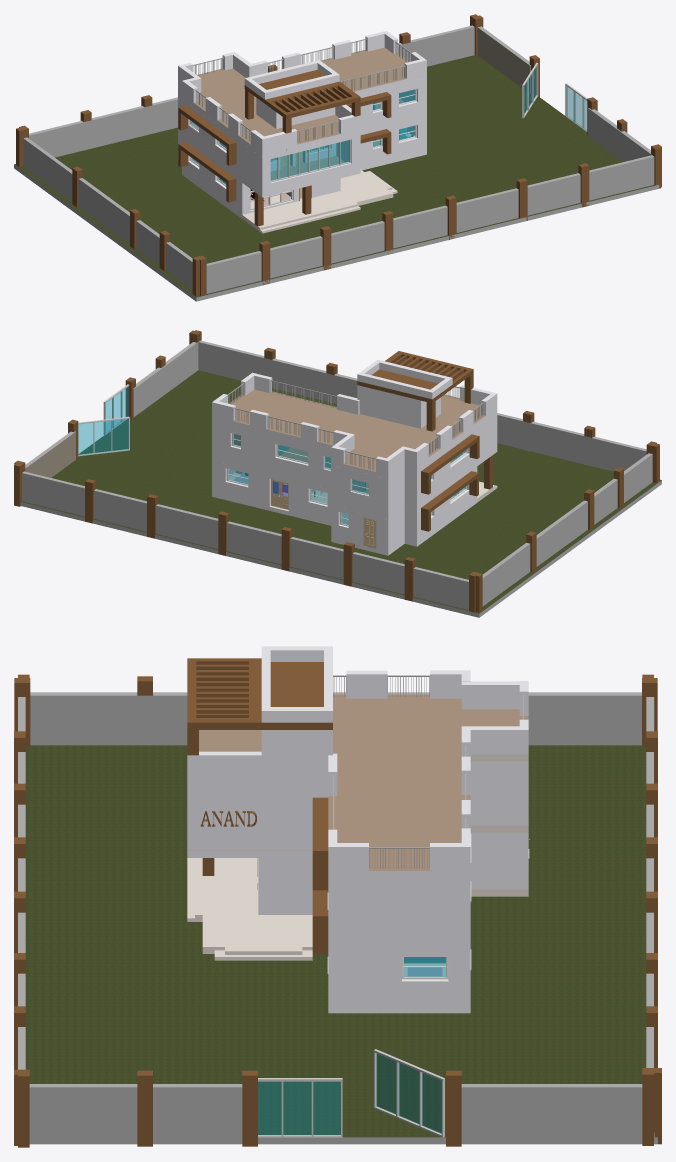
3 views of the same model, one above another, from view 1: azimuth 30°, elevation 25°; view 2: azimuth 150°, elevation 25°; view 3: azimuth 270°, elevation 25° (orthographic). The views are drawn at different scales.
Parts seen in each view (by area): view 1: Generic - 12", Retaining - 12" Concrete 2 (×4), wall 351 (×9), Generic - 12" 3 (×2), Generic - 12" 2 (×4), g flore 1', 18" x 24" 2 (×4), Retaining - 12" Concrete, g stair (×2); view 2: Generic - 12", Retaining - 12" Concrete 2 (×4), wall 351 (×13), Generic - 12" 3 (×2), Generic - 12" 2 (×3), g flore 1', Glazed (×3), 18" x 24" 2 (×3), Retaining - 12" Concrete, 1510 x 2110mm, SCO_Horz Bar Sgl W5; view 3: Generic - 12", wall 351 (×16), Retaining - 12" Concrete 2 (×4), Generic - 12" 3 (×2), Generic - 12" 2 (×3), Retaining - 12" Concrete, g flore 1', Glazed (×6), 18" x 24" 2 (×5), SCO_Horz Bar Sgl W3.
Part boxes in pixels (bbox=[...]): Generic - 12": bbox=[14, 55, 659, 301]; Retaining - 12" Concrete 2 (×4): bbox=[23, 25, 654, 293]; wall 351 (×9): bbox=[184, 60, 426, 214]; Generic - 12" 3 (×2): bbox=[178, 47, 426, 197]; Generic - 12" 2 (×4): bbox=[178, 70, 391, 202]; g flore 1': bbox=[178, 150, 426, 230]; 18" x 24" 2 (×4): bbox=[259, 163, 589, 285]; Retaining - 12" Concrete: bbox=[477, 26, 530, 93]; g stair (×2): bbox=[258, 202, 360, 233]; Generic - 12": bbox=[21, 370, 661, 617]; Retaining - 12" Concrete 2 (×4): bbox=[22, 340, 652, 609]; wall 351 (×13): bbox=[212, 360, 497, 551]; Generic - 12" 3 (×2): bbox=[212, 389, 497, 519]; Generic - 12" 2 (×3): bbox=[357, 351, 479, 531]; g flore 1': bbox=[212, 483, 492, 555]; Glazed (×3): bbox=[78, 419, 128, 454]; 18" x 24" 2 (×3): bbox=[281, 527, 415, 601]; Retaining - 12" Concrete: bbox=[25, 431, 75, 477]; 1510 x 2110mm: bbox=[271, 479, 288, 509]; SCO_Horz Bar Sgl W5: bbox=[275, 444, 308, 465]; Generic - 12": bbox=[25, 745, 657, 1144]; wall 351 (×16): bbox=[196, 646, 528, 1006]; Retaining - 12" Concrete 2 (×4): bbox=[18, 692, 653, 1137]; Generic - 12" 3 (×2): bbox=[187, 694, 528, 949]; Generic - 12" 2 (×3): bbox=[187, 658, 332, 954]; Retaining - 12" Concrete: bbox=[461, 1084, 642, 1137]; g flore 1': bbox=[202, 858, 528, 1013]; Glazed (×6): bbox=[258, 1053, 441, 1134]; 18" x 24" 2 (×5): bbox=[18, 1068, 654, 1147]; SCO_Horz Bar Sgl W3: bbox=[401, 957, 448, 981].
Size of what is drawn, in the model's own units: 36.99 by 9.35 by 25.16.
36 materials, 1 textured.
